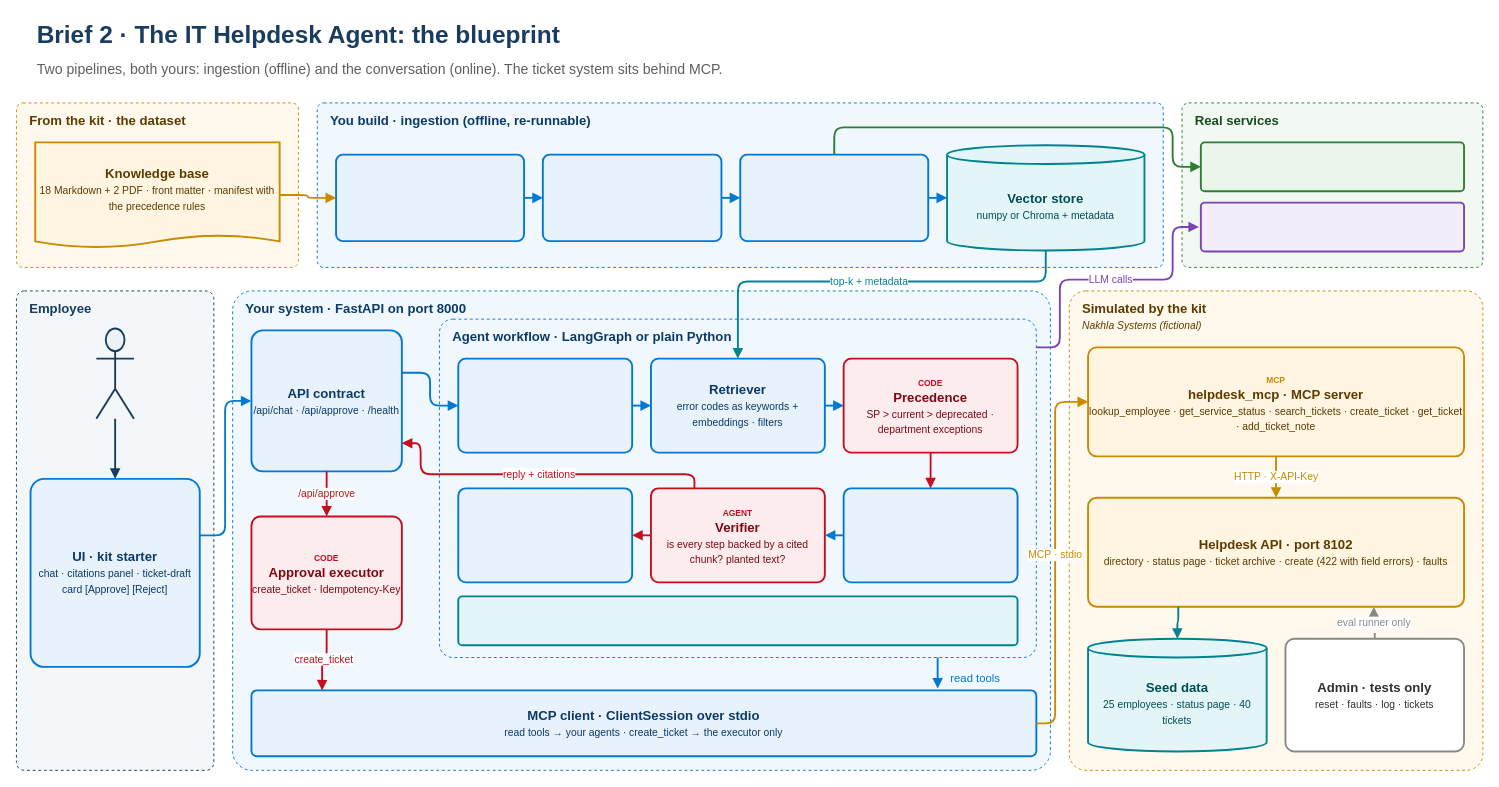
This 1499x787 diagram has some shape labels left out. Each missing label, with the centre of its shape:
"AGENT Escalation writer schema-valid ticket draft · priority by the KB's rules" belongs at point (545, 535).
"AGENT Resolver grounded steps · citations · “not documented”" belongs at point (930, 535).
"AGENT Triage intent · missing context · status page · directory" belongs at point (545, 405).
"Chunk by section a procedure stays whole" belongs at point (631, 197).
"Embed text-embedding-3-small" belongs at point (834, 197).
"Embeddings · OpenRouter" belongs at point (1332, 166).
"Employee chat" belongs at point (114, 373).
"LLM · OpenRouter" belongs at point (1332, 226).
"Parse keep id · version · status · applies_to" belongs at point (430, 197).
"Session state + the requester's ticket history (search_tickets)" belongs at point (737, 620).
